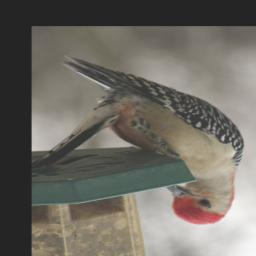Woodpecker: (58, 50, 243, 225)
